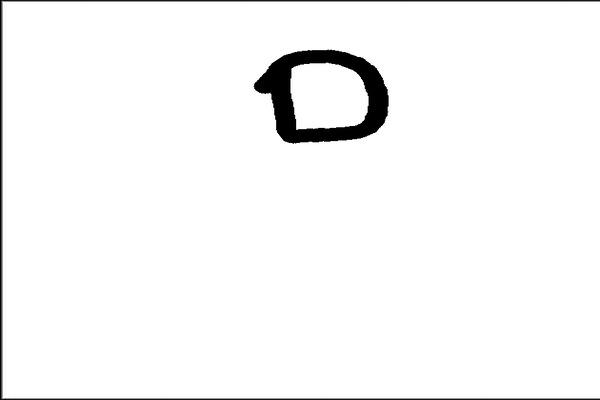D: (249, 44, 393, 148)
